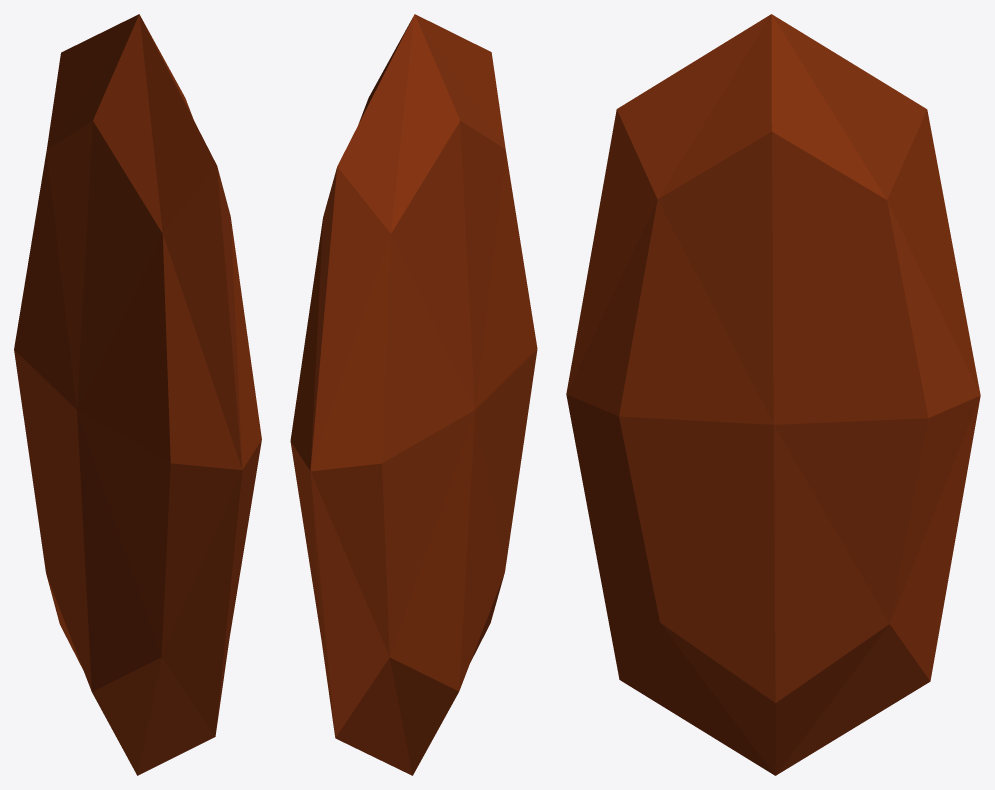
3 views of the same model, side by side, from view 1: azimuth 30°, elevation 25°; view 2: azimuth 150°, elevation 25°; view 3: azimuth 270°, elevation 25° (orthographic).
Parts seen in each view (by area): view 1: 437_Cube.1773; view 2: 437_Cube.1773; view 3: 437_Cube.1773.
Boxes of the visible parts, <box> form: 437_Cube.1773: <box>14,14,261,775</box>; 437_Cube.1773: <box>290,14,537,775</box>; 437_Cube.1773: <box>566,14,980,775</box>.
Bounding box in the file's own units: 2.04 × 12.09 × 5.96.
